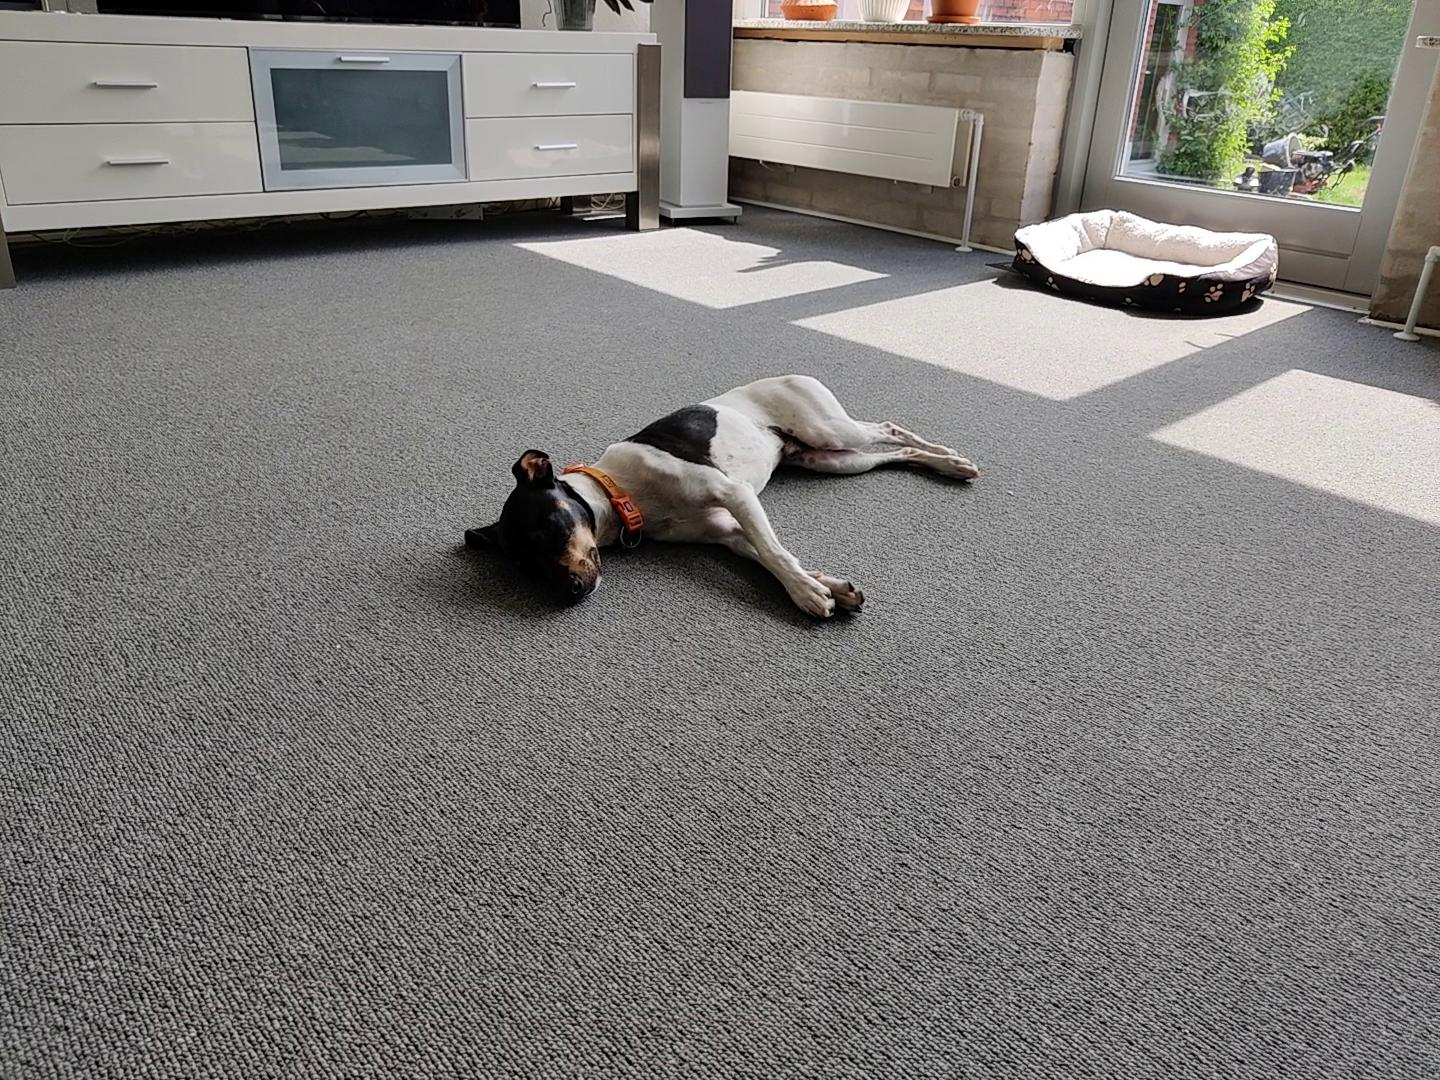Dog: (458, 362, 986, 640)
